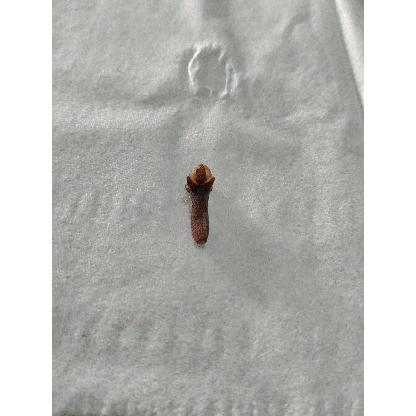baik: (185, 165, 215, 248)
